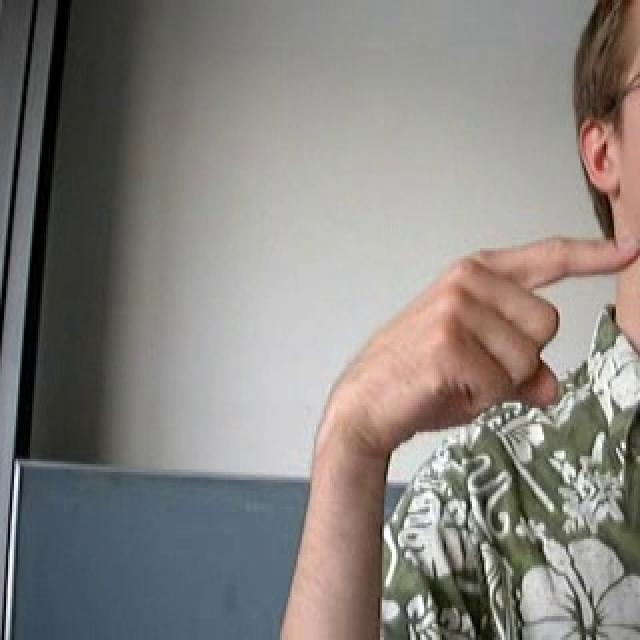G: (302, 203, 640, 480)
